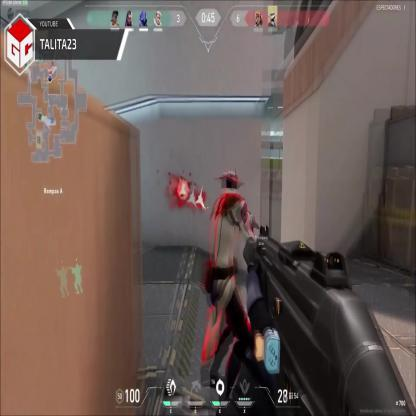enemy: (198, 162, 254, 401)
enemy_head: (224, 170, 238, 194)
